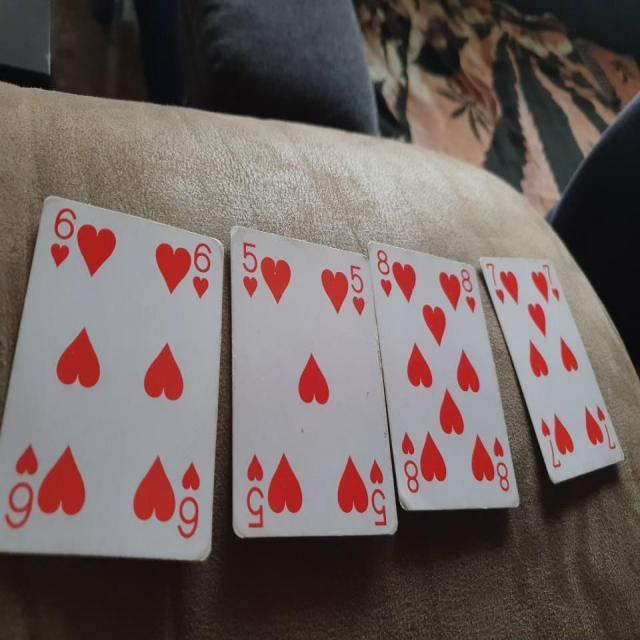5 of hearts: (230, 220, 400, 545)
6 of hearts: (1, 182, 230, 553)
7 of hearts: (478, 243, 626, 486)
8 of hearts: (364, 237, 526, 522)
